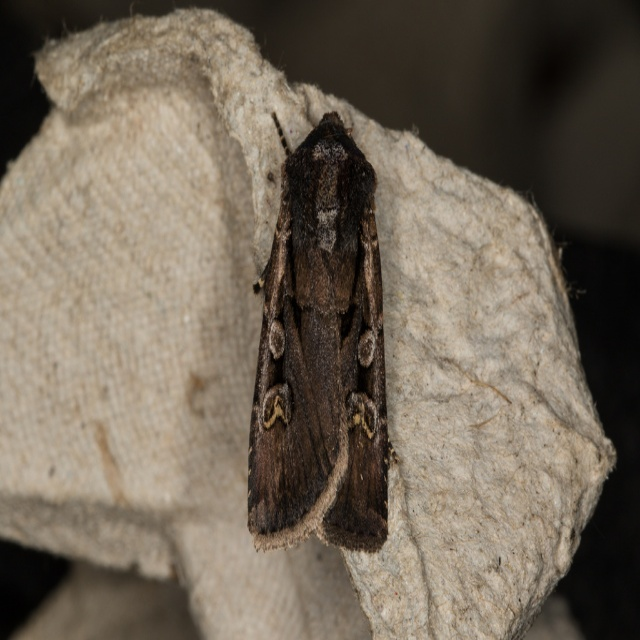Moths and butterflies: (247, 108, 401, 554)
